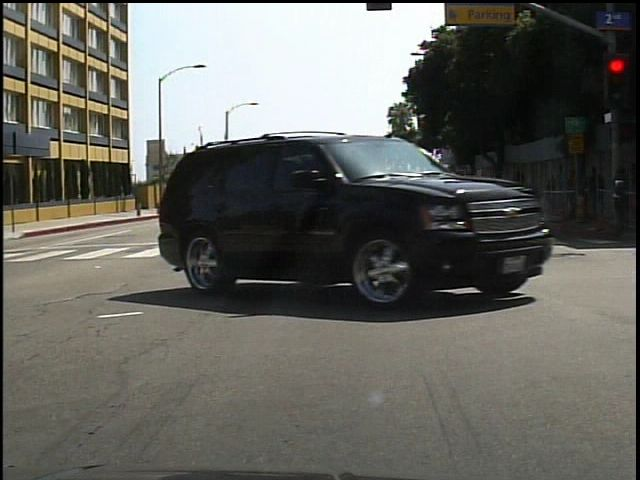car: (139, 121, 556, 318)
